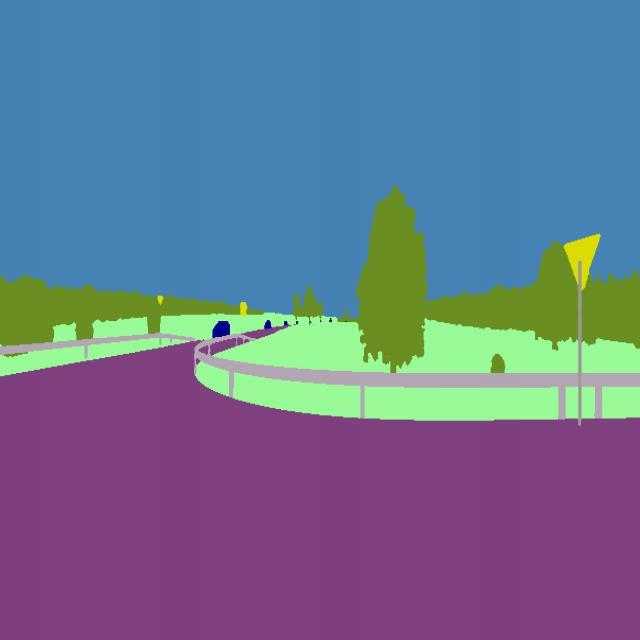safe: (208, 315, 236, 342), (262, 316, 274, 336)
